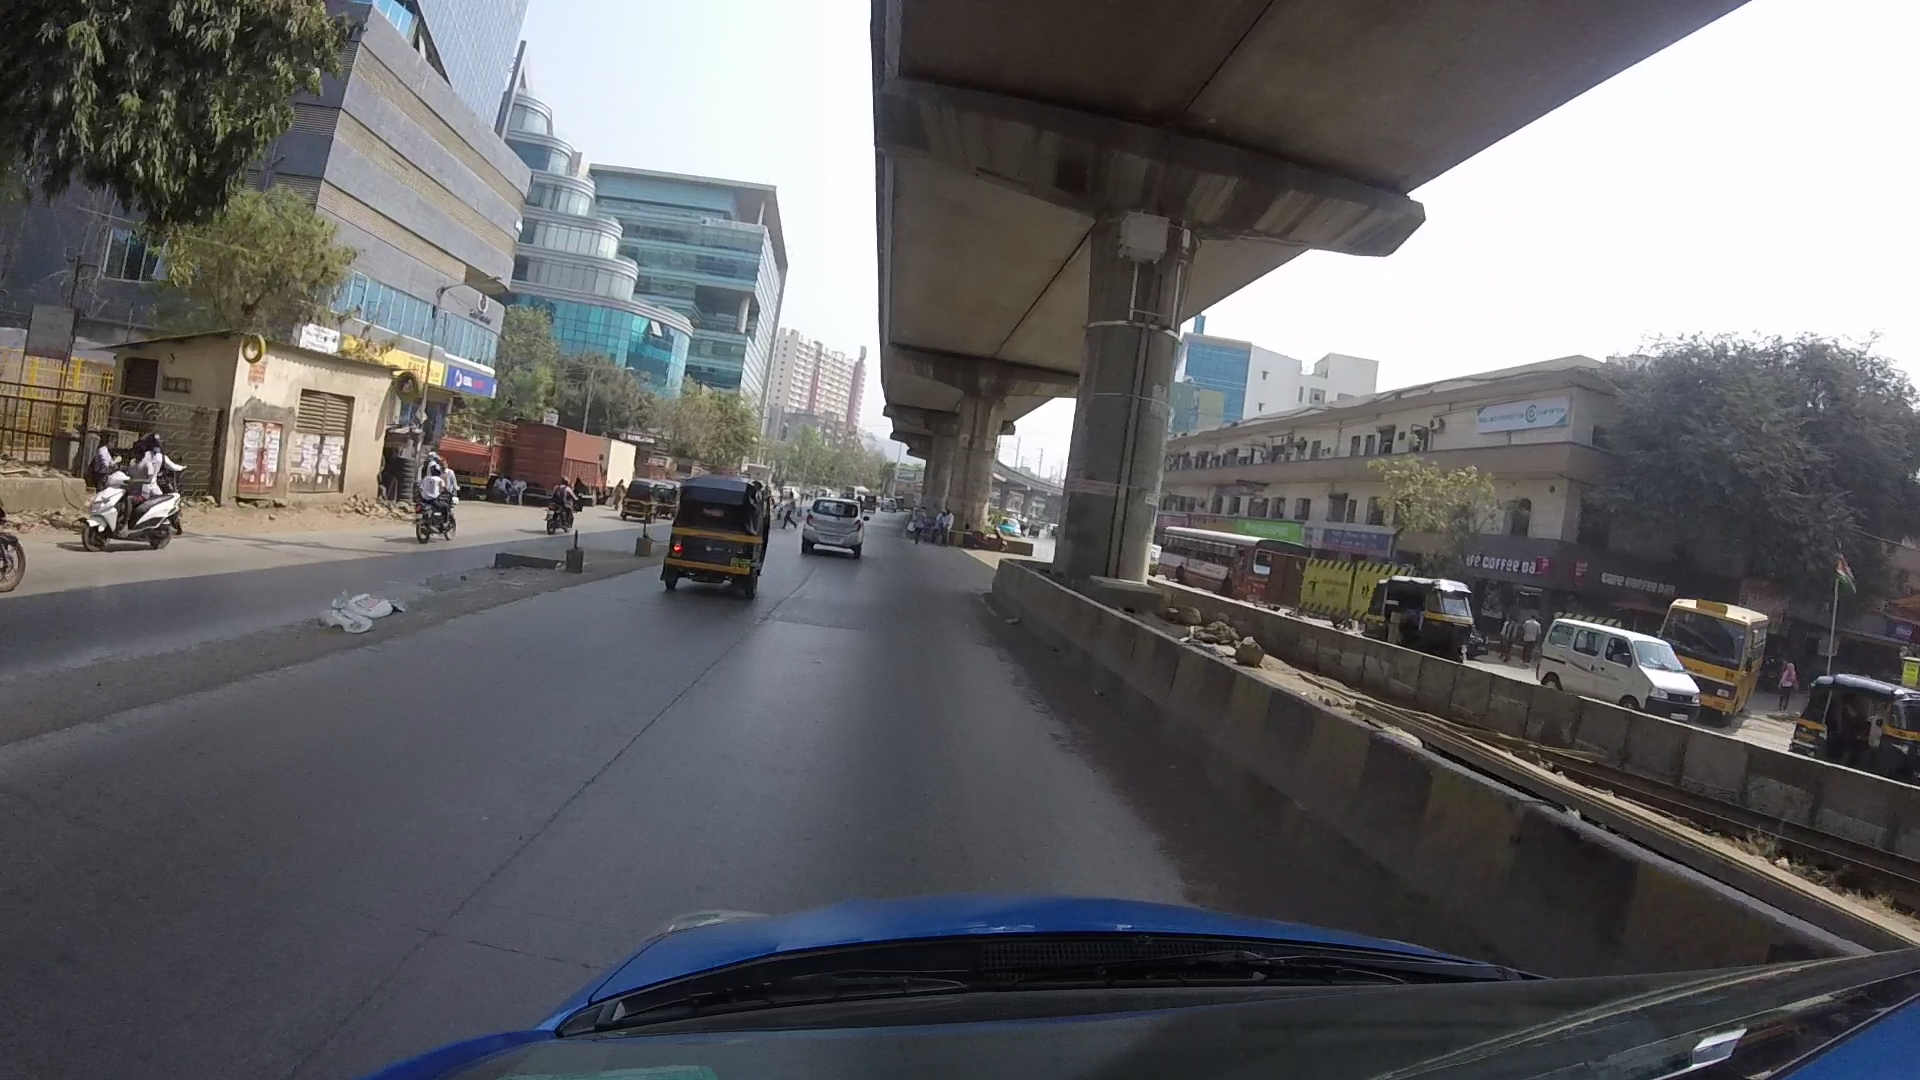bike/scooter: (69, 455, 193, 553), (406, 448, 488, 545), (538, 468, 585, 535)
bus: (1158, 502, 1308, 615), (1660, 580, 1776, 723)
car: (1524, 600, 1681, 735), (799, 475, 884, 589)
rickshaw: (640, 450, 779, 616), (1346, 543, 1491, 671), (1793, 650, 1920, 782)
